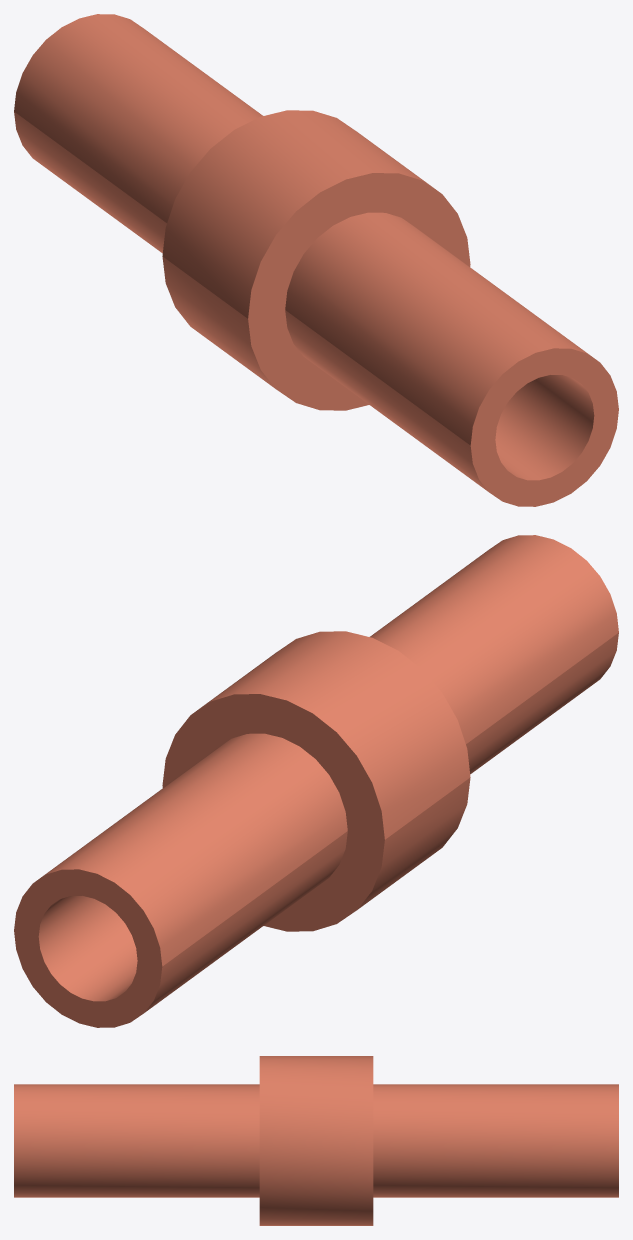
The picture shows the model from 3 angles, top to bottom: view 1: azimuth 30°, elevation 25°; view 2: azimuth 150°, elevation 25°; view 3: azimuth 270°, elevation 25°; orthographic projection. The views are drawn at different scales.
Parts seen in each view (by area): view 1: [pivoted]; view 2: [pivoted]; view 3: [pivoted].
Boxes of the visible parts, bbox=[...] form: [pivoted]: bbox=[14, 14, 618, 506]; [pivoted]: bbox=[14, 535, 618, 1027]; [pivoted]: bbox=[14, 1056, 618, 1225].
Size of the model in its own units: 0.45 by 0.4467 by 1.6.
